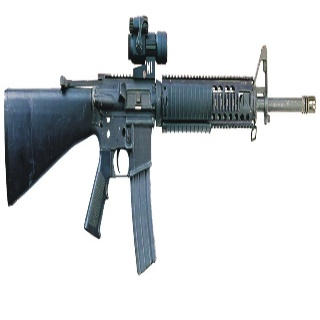rifle: (1, 13, 318, 276)
